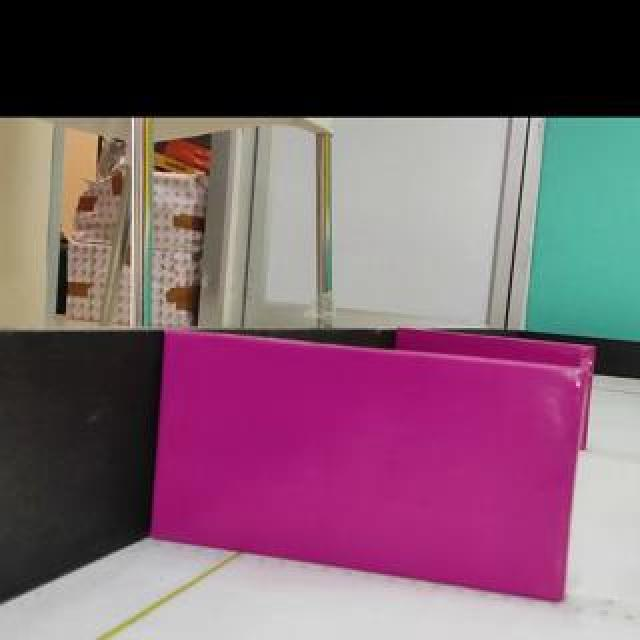xparking: (149, 332, 581, 602), (431, 332, 592, 367)
